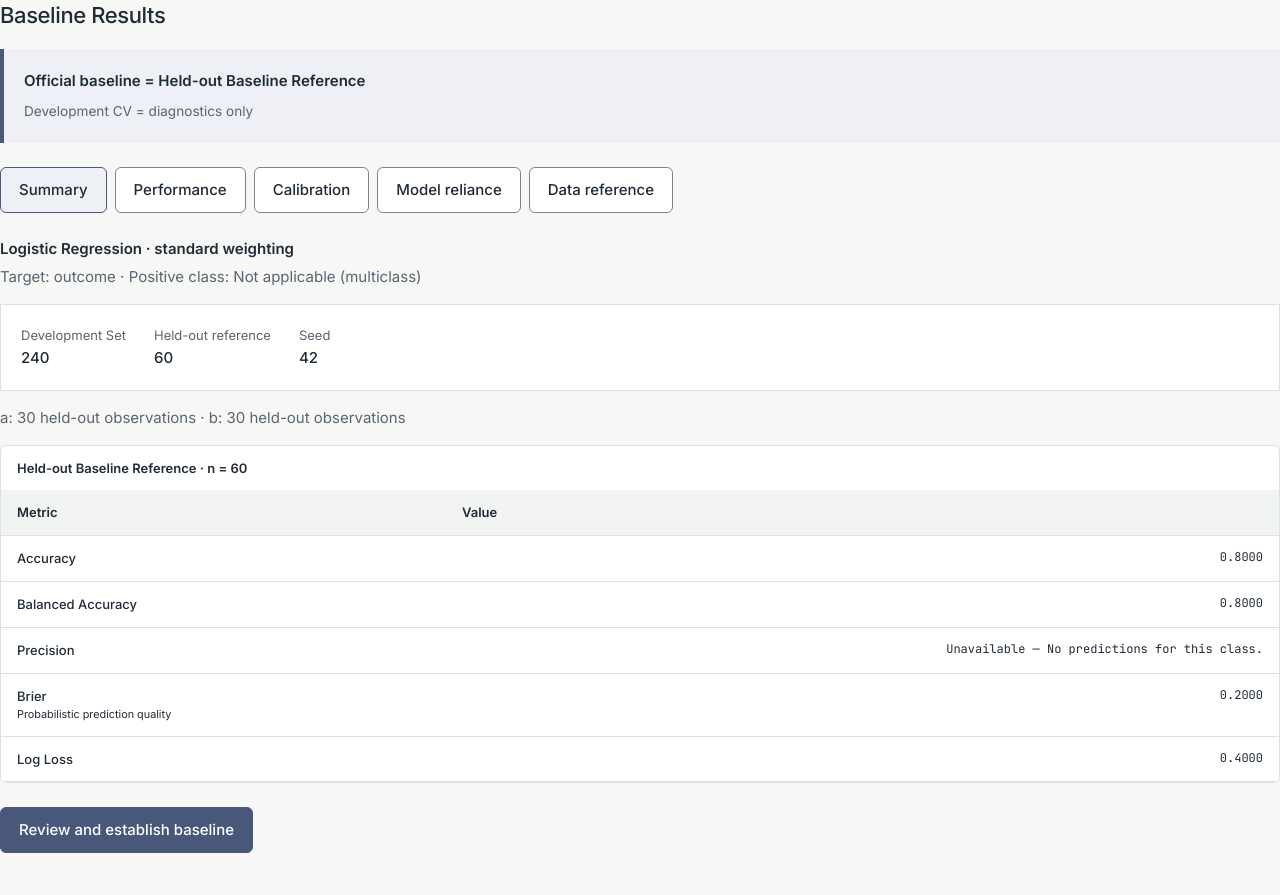
Test: M2 baseline workflow › shows official results separately from five-fold diagnostics and explicit unavailable reasons
This screenshot has width=1280, height=895.
expect the text "Official baseline = Held-out Baseline Reference" is shown: met, box 24,71 -> 365,90
Click the button "Performance" at (180, 190), box 114,167 -> 246,213
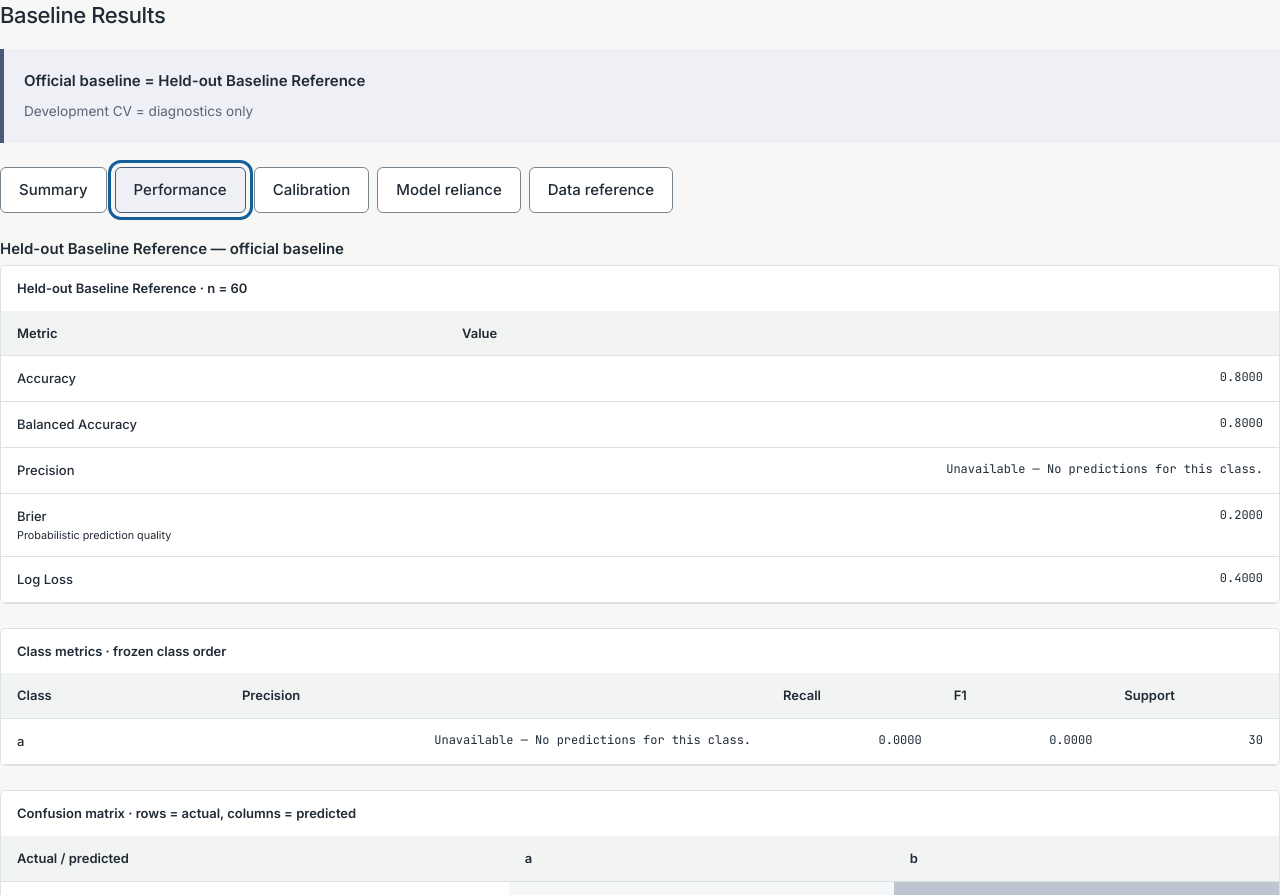
expect the text "Unavailable — No predictions for this class." is shown 2 times: met, box 446,448 -> 1279,493; 226,719 -> 767,765
Click the button "Calibration" at (311, 190), box 254,167 -> 369,213
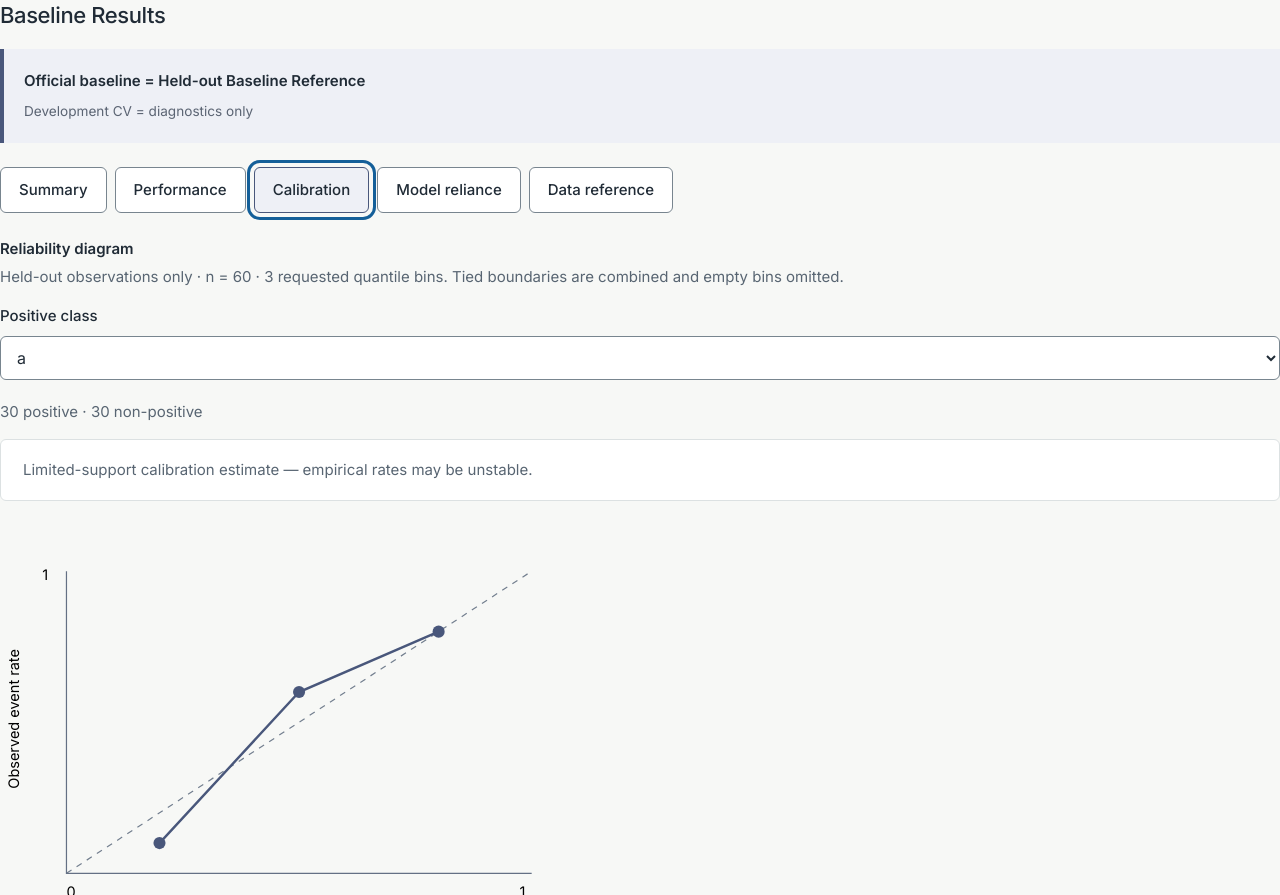
expect the text "Limited-support calibration estimate — empirical rates may be unstable." is shown: met, box 0,439 -> 1279,501
Click the button "Model reliance" at (449, 190), box 377,167 -> 521,213
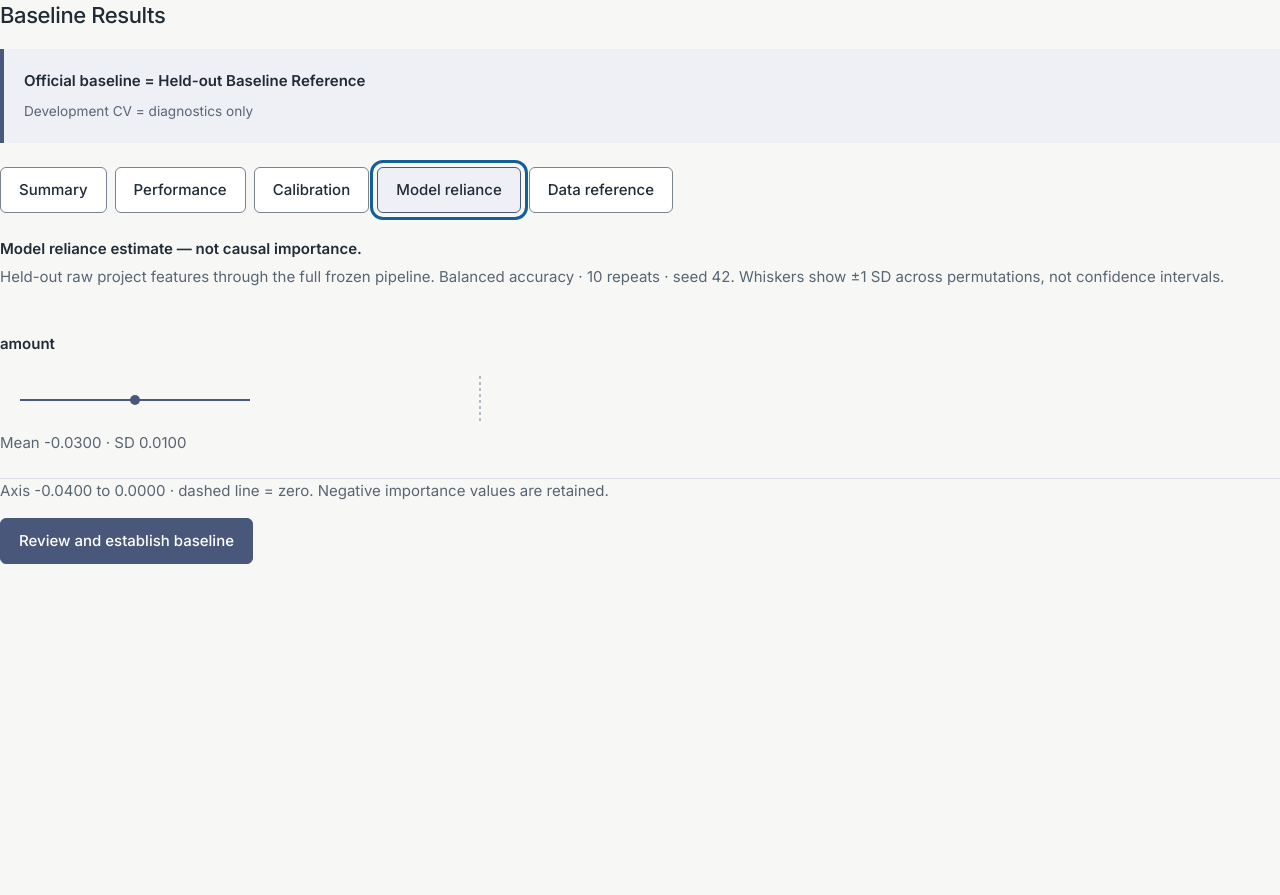
expect the heading "Model reliance estimate — not causal importance." is shown: met, box 0,239 -> 362,258
expect the text "Mean -0.0300 · SD 0.0100" is shown: met, box 0,433 -> 186,452
